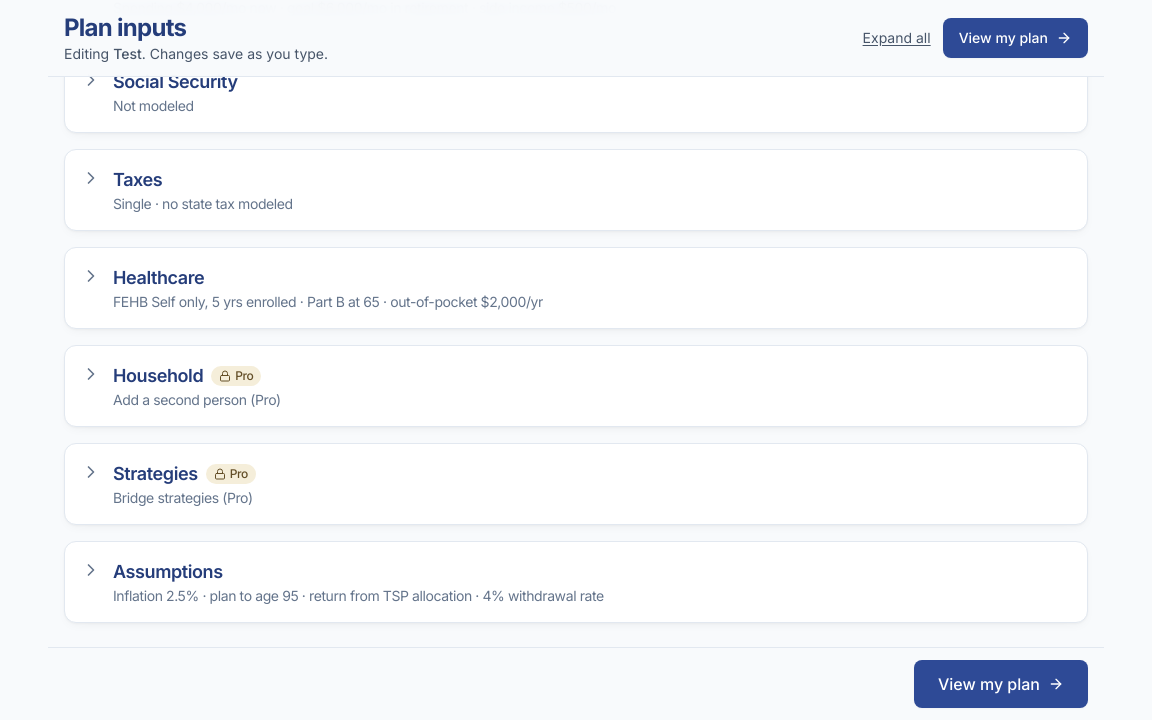
Test: PlanInputs › gates Household and Strategies for free users and unlocks them for Pro
(page scrolled)
Expected: the text "Add a second person (Pro)" is shown, x1=113 y1=391 x2=281 y2=408
Step 1. Click the button "Household Pro Add a second person (Pro)" → coordinates (158, 376), box x1=65 y1=346 x2=1087 y2=426
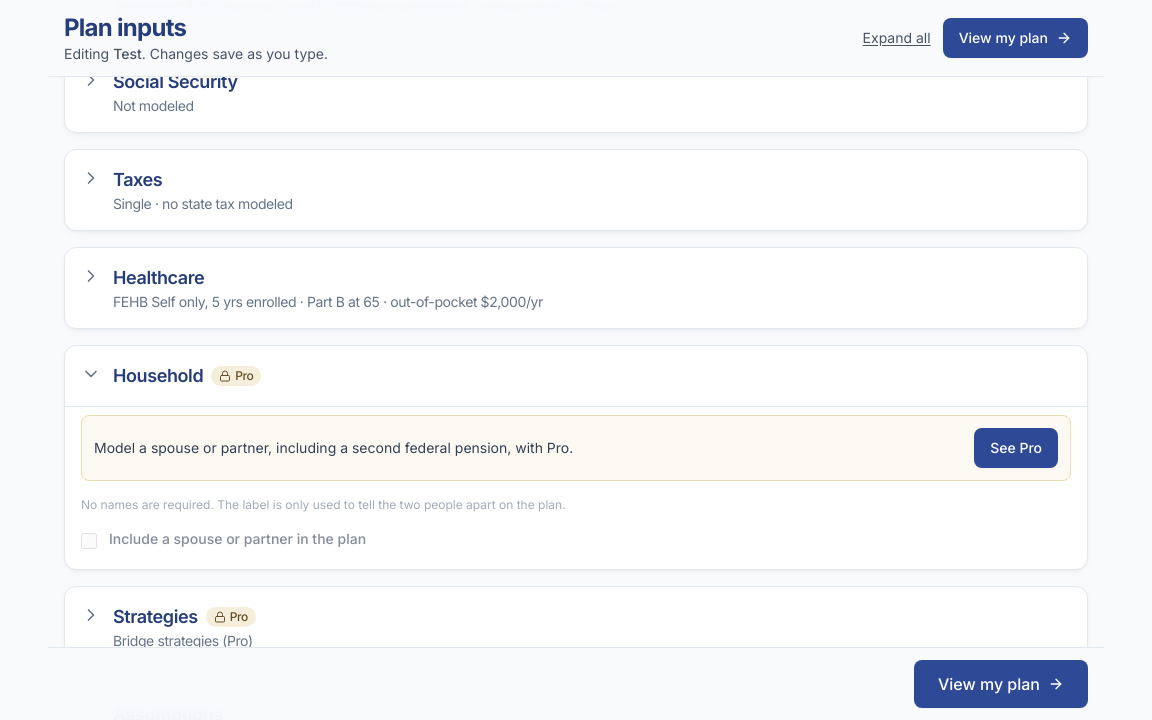
Expected: the checkbox labelled "Include a spouse or partner in the plan" is disabled, x1=81 y1=533 x2=97 y2=549
Expected: the link "See Pro" is shown, x1=974 y1=428 x2=1058 y2=468
